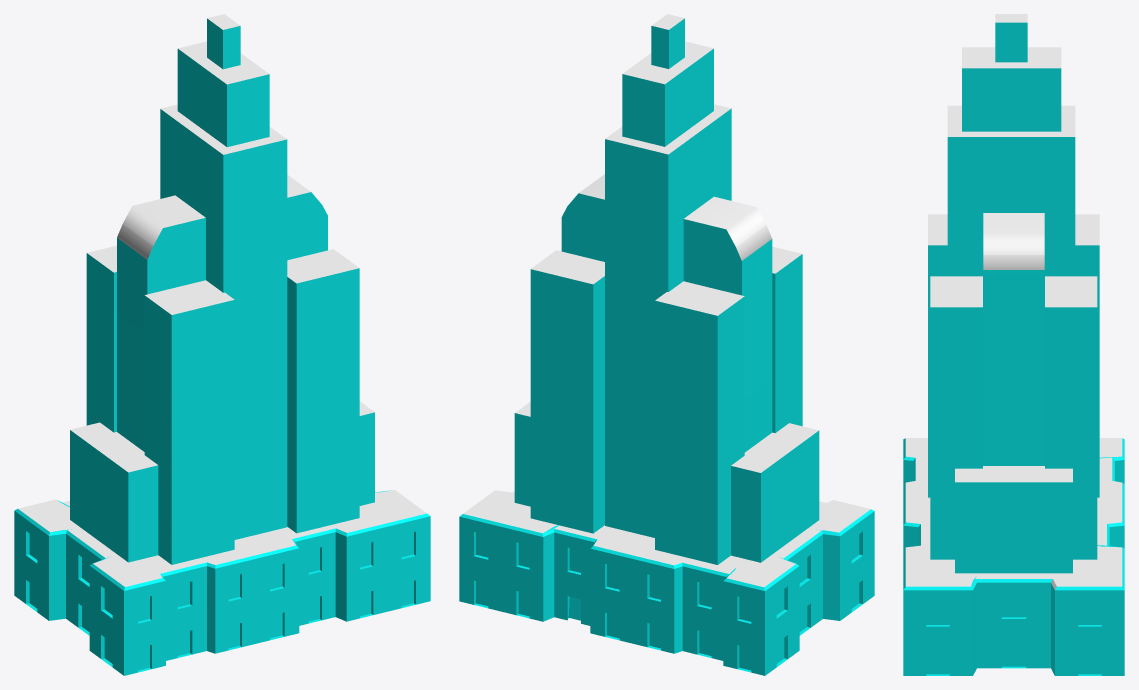
Rendered from Building_22_Blue.glb.
3 views of the same model, side by side, from view 1: azimuth 30°, elevation 25°; view 2: azimuth 150°, elevation 25°; view 3: azimuth 270°, elevation 25° (orthographic).
Visible parts, largest first — view 1: pCube7; view 2: pCube7; view 3: pCube7.
Boxes of the visible parts, <box> form: pCube7: <box>14,14,430,675</box>; pCube7: <box>459,14,874,675</box>; pCube7: <box>903,14,1124,675</box>.
Bounding box in the file's own units: 2507 × 4511 × 1556.
